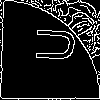U: (25, 25, 76, 64)
